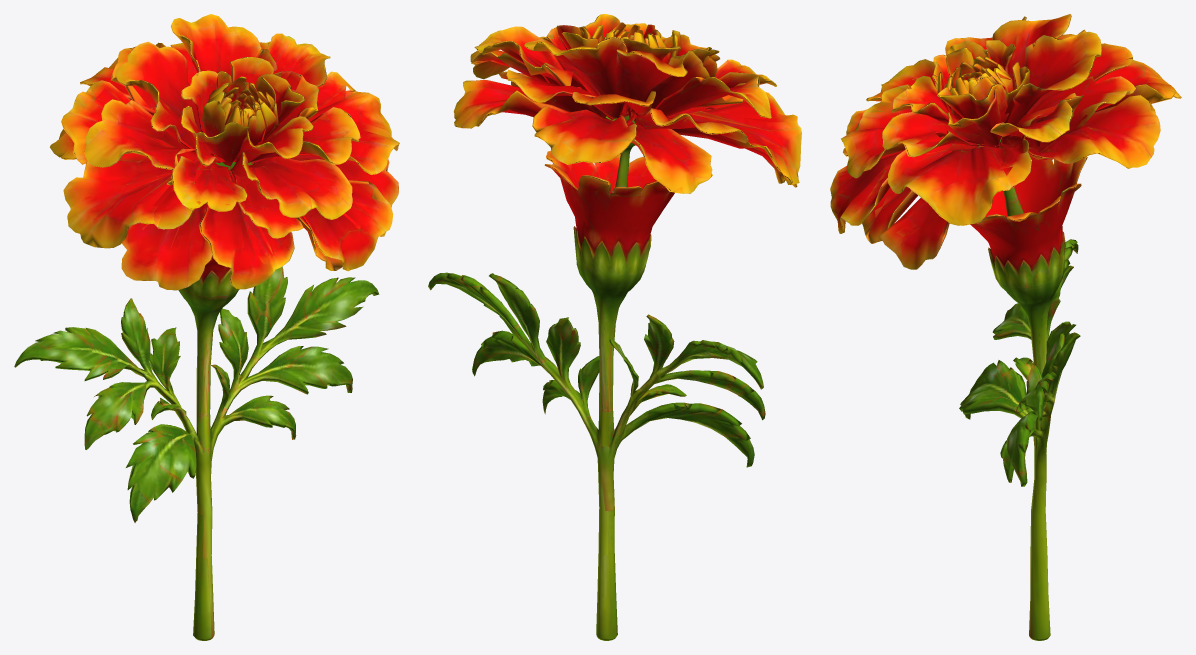
The model's file is marigold.glb.
3 views of the same model, side by side, from view 1: azimuth 30°, elevation 25°; view 2: azimuth 150°, elevation 25°; view 3: azimuth 270°, elevation 25° (orthographic). The views are drawn at different scales.
Visible parts, largest first — view 1: geometry_0; view 2: geometry_0; view 3: geometry_0.
Boxes of the visible parts, x1,y1,x2,y2 form: geometry_0: (14,14,399,640); geometry_0: (428,14,801,640); geometry_0: (830,14,1181,640).
Size of the model in its own units: 0.5786 by 0.9521 by 0.5034.
Materials: 1 (1 with a texture image).
